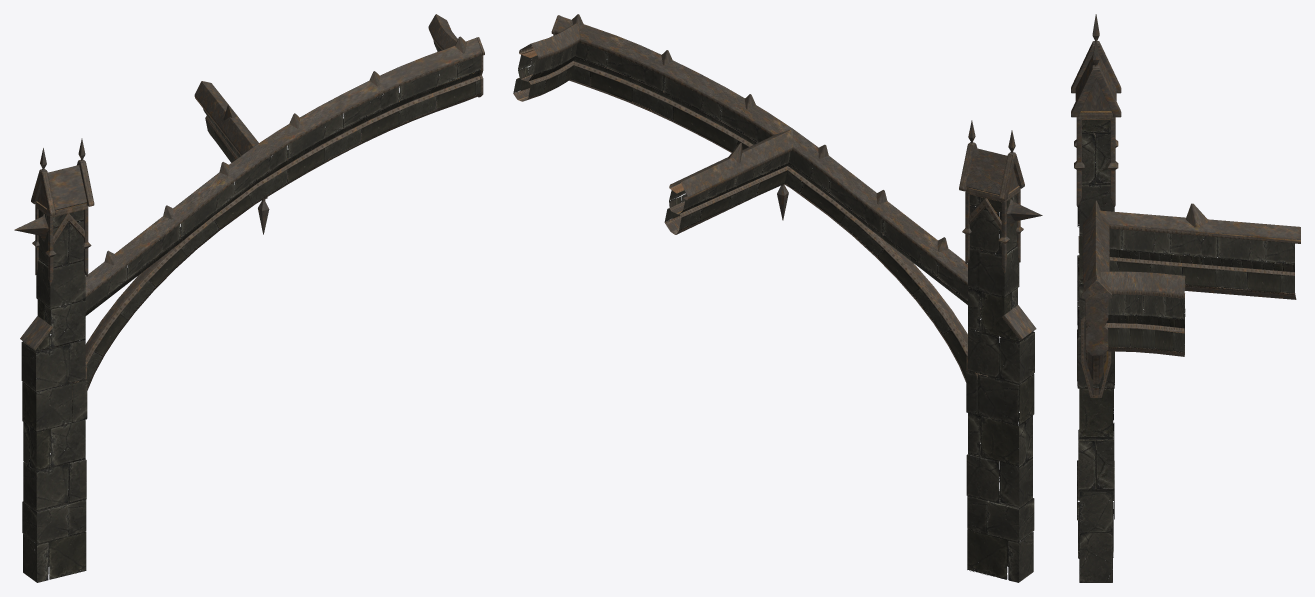
3 views of the same model, side by side, from view 1: azimuth 30°, elevation 25°; view 2: azimuth 150°, elevation 25°; view 3: azimuth 270°, elevation 25° (orthographic). The views are drawn at different scales.
Visible parts, largest first — view 1: SM_Dowdun_Support_Arch_01_LOD0; view 2: SM_Dowdun_Support_Arch_01_LOD0; view 3: SM_Dowdun_Support_Arch_01_LOD0.
Boxes of the visible parts, x1=… form: SM_Dowdun_Support_Arch_01_LOD0: x1=14, y1=14, x2=484, y2=582; SM_Dowdun_Support_Arch_01_LOD0: x1=513, y1=14, x2=1042, y2=582; SM_Dowdun_Support_Arch_01_LOD0: x1=1071, y1=14, x2=1300, y2=582.
Bounding box in the file's own units: 16.62 × 14.63 × 5.46.
3 materials, 3 textured.
